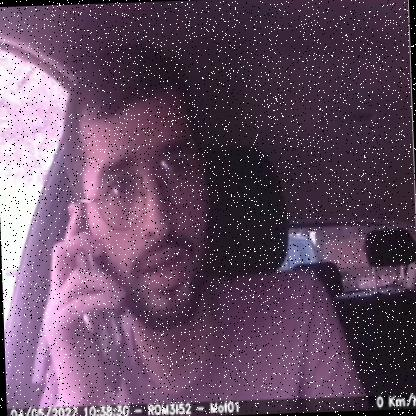phone: (61, 222, 132, 398)
